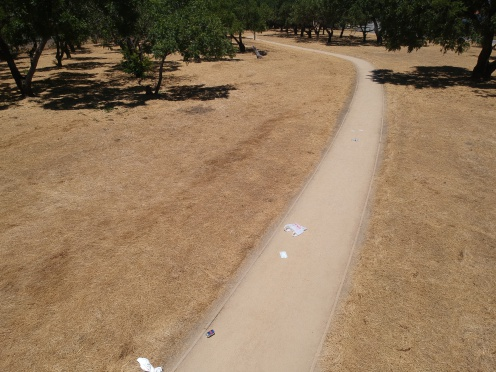can: (203, 327, 217, 340)
plastic bag: (282, 221, 309, 240)
